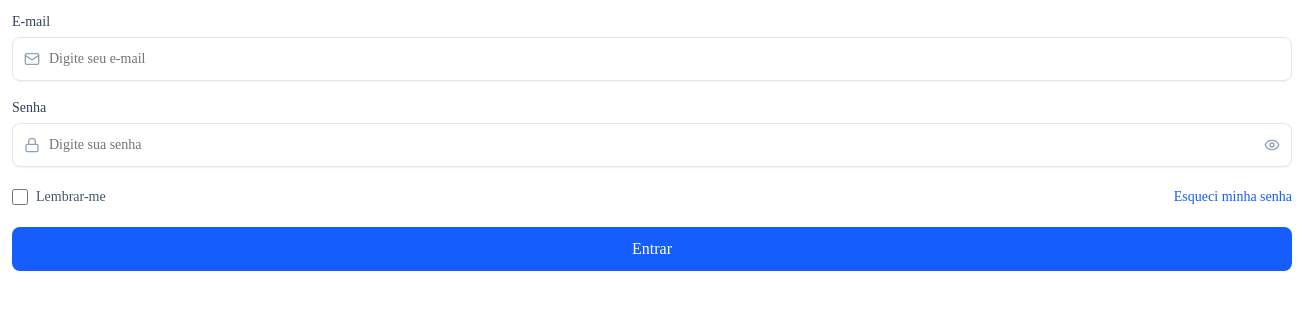
it: LoginForm › mostra "E-mail inválido." no blur com formato errado
Type "nao-e-email" into the field with placeholder "Digite seu e-mail".
click(652, 59); type("nao-e-email")  # box [12,37,1292,81]
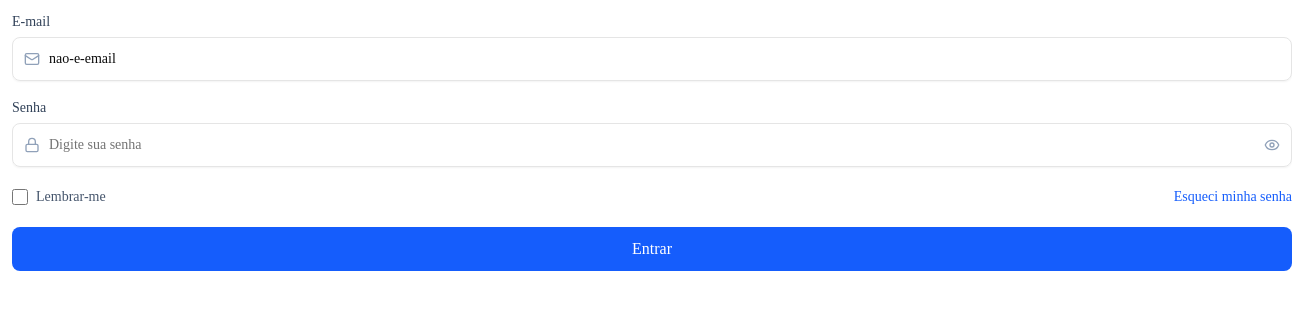
Leave the field with placeholder "Digite seu e-mail", box [12,37,1292,81]
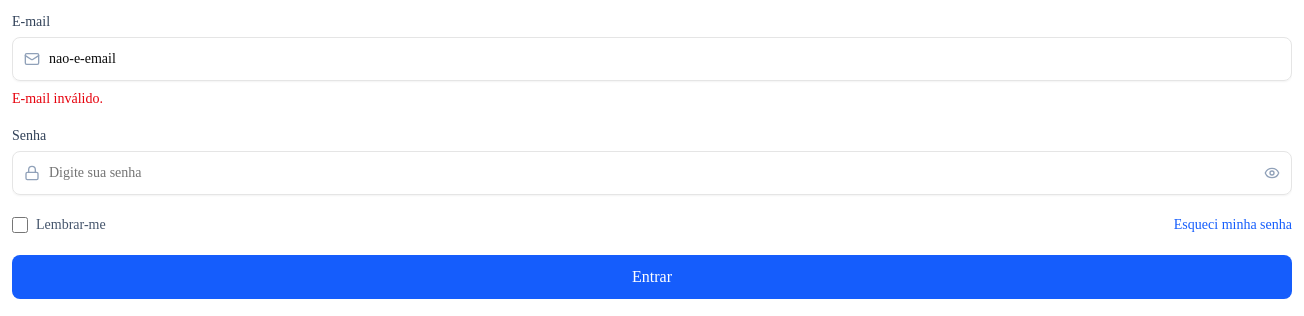
Expected: the text "E-mail inválido." is shown, [12,91,103,106]
